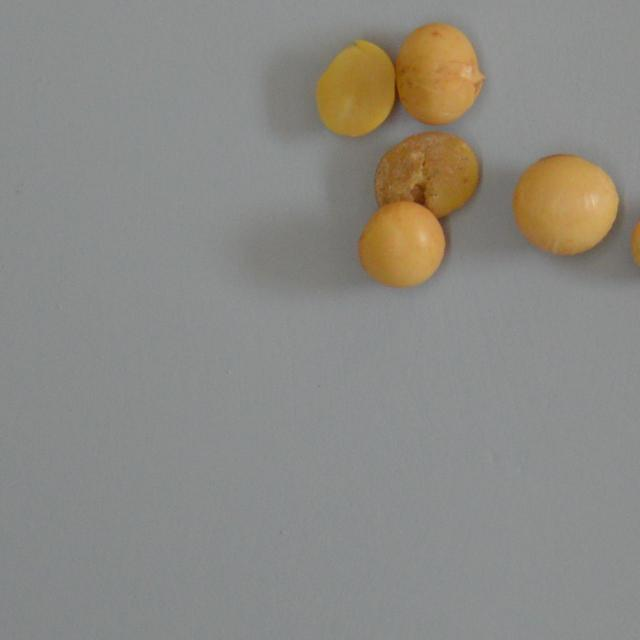cuerpos_extranos: (512, 151, 619, 256), (392, 20, 490, 128), (370, 130, 482, 218), (312, 34, 398, 139), (356, 201, 448, 288), (626, 192, 640, 283)
